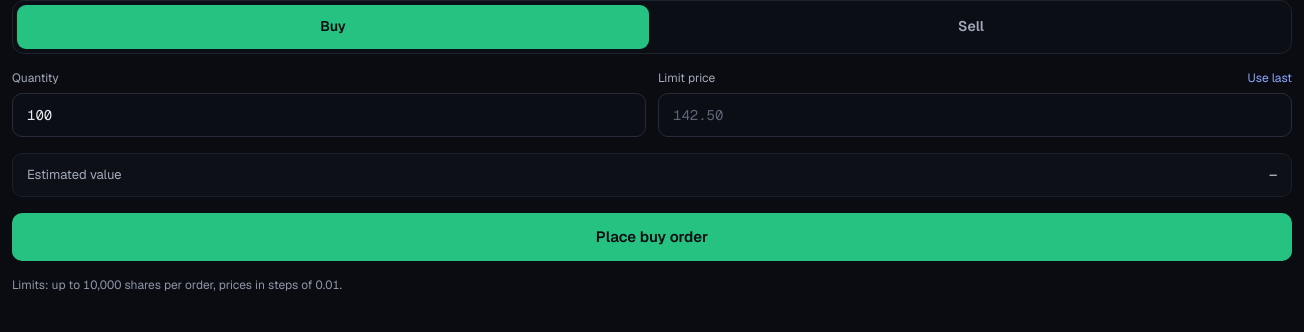
OrderTicket › validation › asks for a price when it is empty
Step 1. Click the button "Place buy order" → x=652, y=237, box [12,213,1292,261]
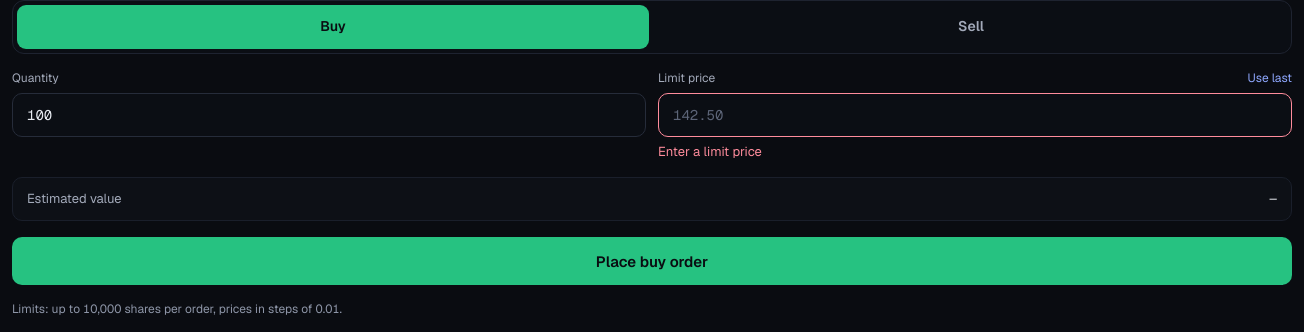
expect the text "Enter a limit price" is shown: met, box [658,143,762,160]
